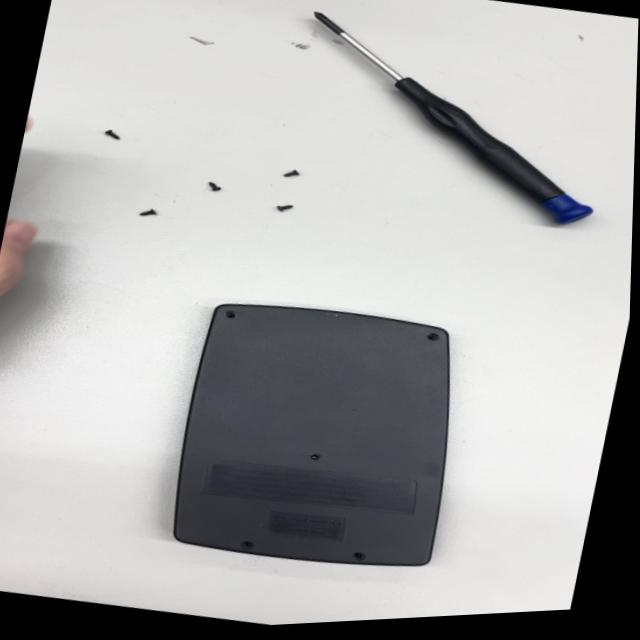back_cover: (155, 275, 485, 596)
screw: (94, 120, 135, 149), (197, 174, 231, 200), (276, 163, 309, 184), (133, 202, 161, 222), (271, 198, 297, 216)
screw_driver: (266, 0, 630, 250)
